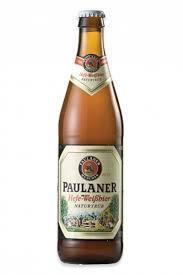Glass bottle: (54, 5, 129, 270)
